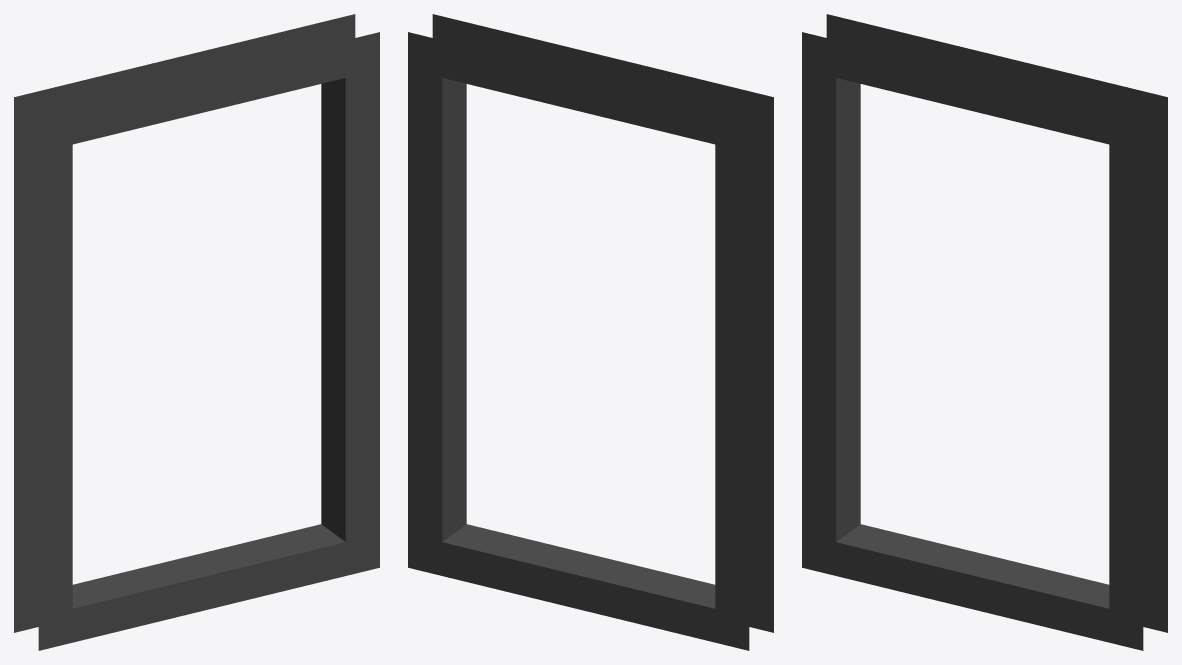
File: Wall_Window_D_2x3x0_25.fbx
3 views of the same model, side by side, from view 1: azimuth 30°, elevation 25°; view 2: azimuth 150°, elevation 25°; view 3: azimuth 330°, elevation 25° (orthographic).
Parts seen in each view (by area): view 1: Wall_Window_D_2x3x0_25; view 2: Wall_Window_D_2x3x0_25; view 3: Wall_Window_D_2x3x0_25.
Part boxes in pixels (x1,y1,x2,y2): Wall_Window_D_2x3x0_25: (14, 14, 379, 650); Wall_Window_D_2x3x0_25: (408, 14, 773, 650); Wall_Window_D_2x3x0_25: (802, 14, 1167, 650).
Bounding box in the file's own units: 200 × 300 × 25.
